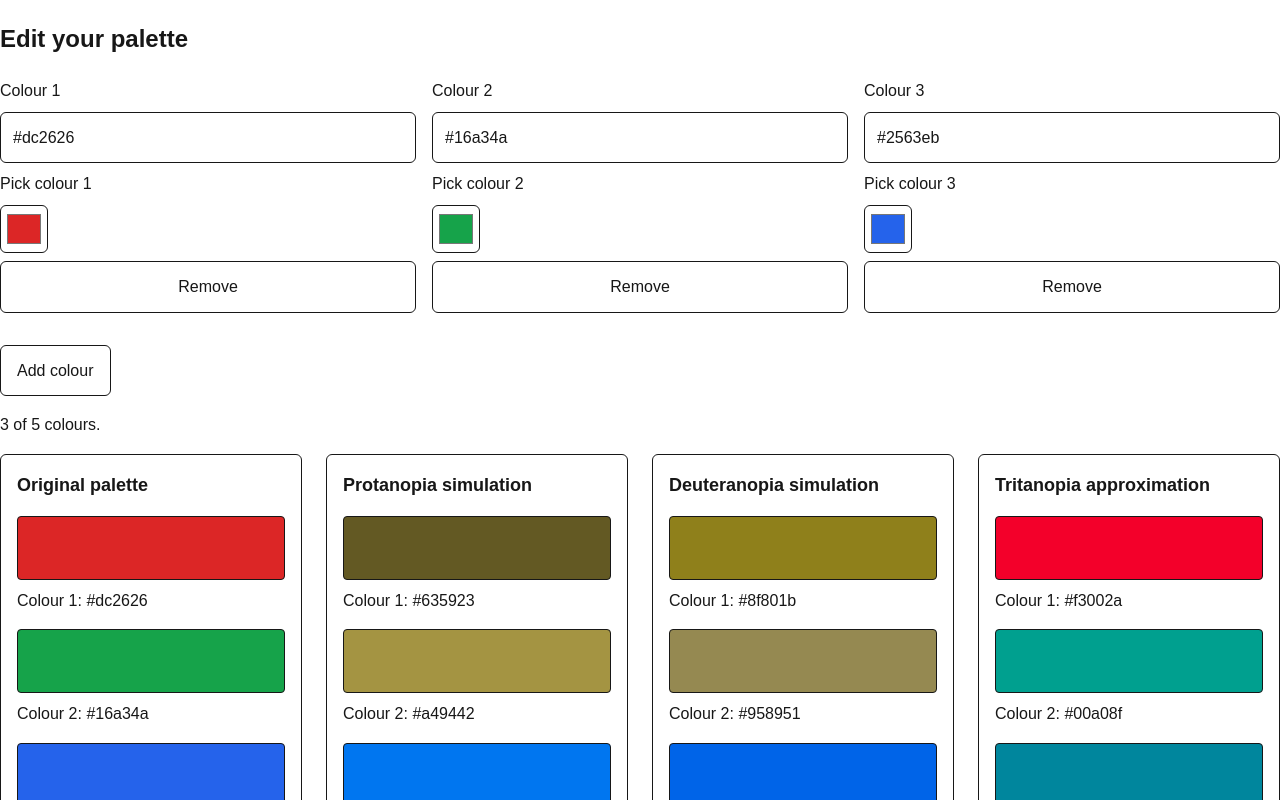
keeps consecutive labels and moves focus after removing a colour
The width and height of the screenshot is (1280, 800).
Click the button with aria-label "Remove colour 2" at {"x": 640, "y": 287}, box x1=432 y1=261 x2=848 y2=313
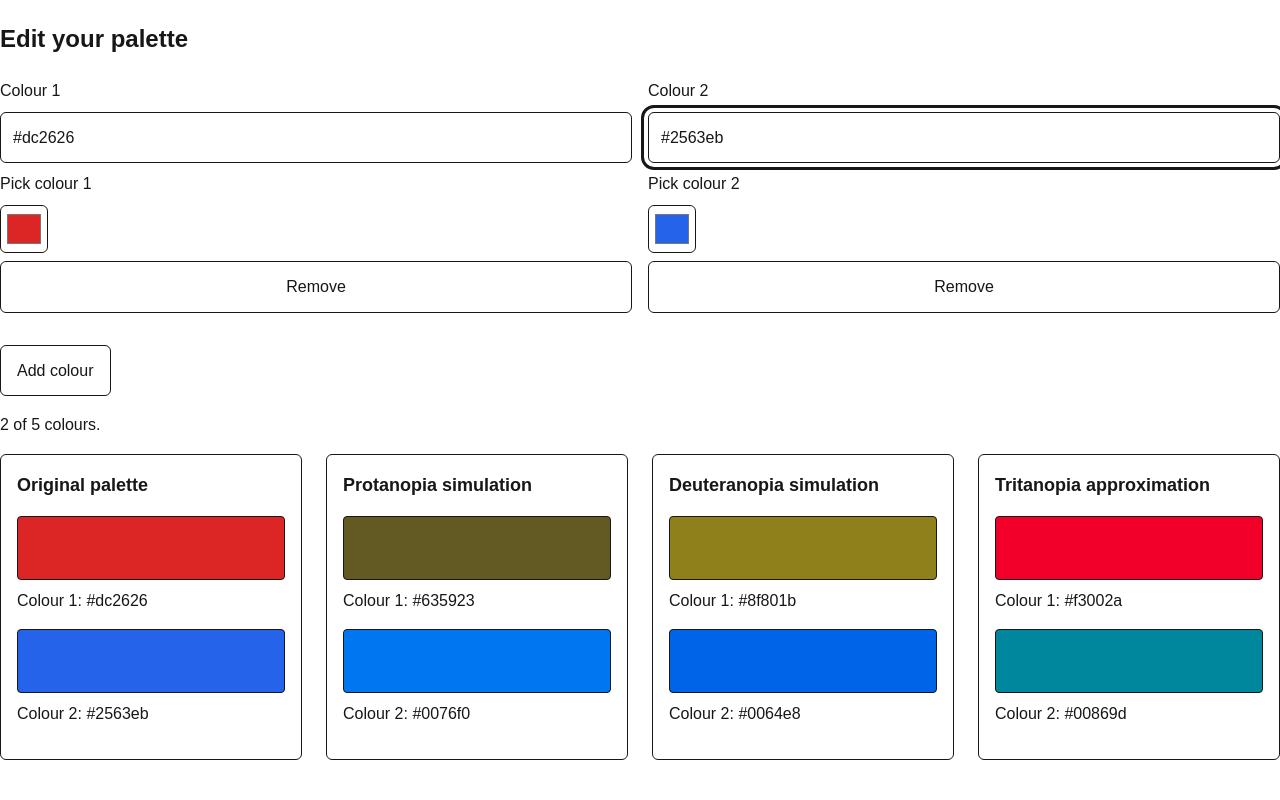
Expected: the field labelled "Colour 2" holds "#2563eb", x1=648 y1=112 x2=1279 y2=163
Expected: the number of fields is 2, x1=0 y1=112 x2=632 y2=163; x1=648 y1=112 x2=1279 y2=163
Click the button "Add colour" at {"x": 55, "y": 370}, box x1=0 y1=345 x2=110 y2=396
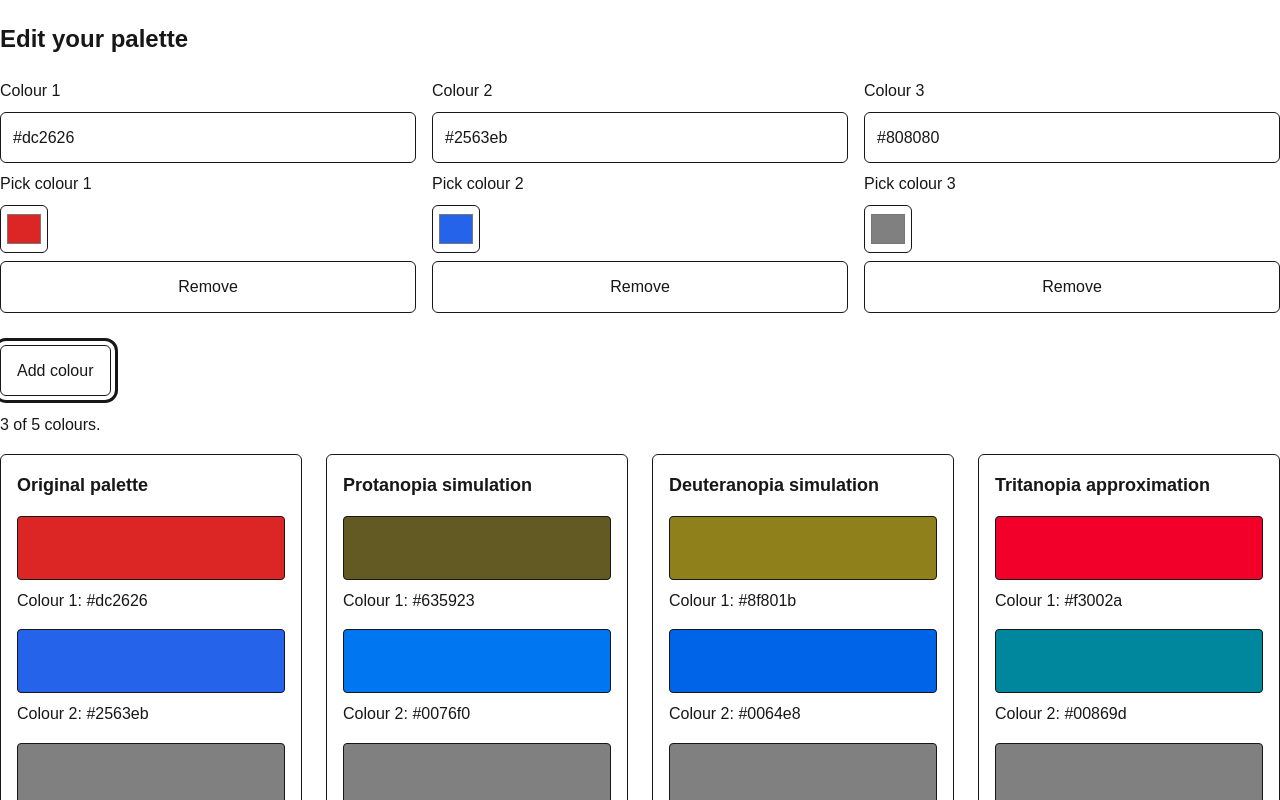
Expected: the field labelled "Colour 2" holds "#2563eb", x1=432 y1=112 x2=848 y2=163
Expected: the field labelled "Colour 3" holds "#808080", x1=864 y1=112 x2=1279 y2=163
Expected: the number of fields is 3, x1=0 y1=112 x2=416 y2=163; x1=432 y1=112 x2=848 y2=163; x1=864 y1=112 x2=1279 y2=163
